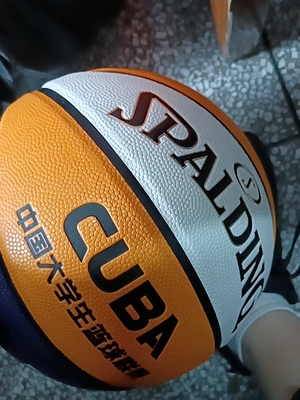ball: (1, 67, 277, 392)
